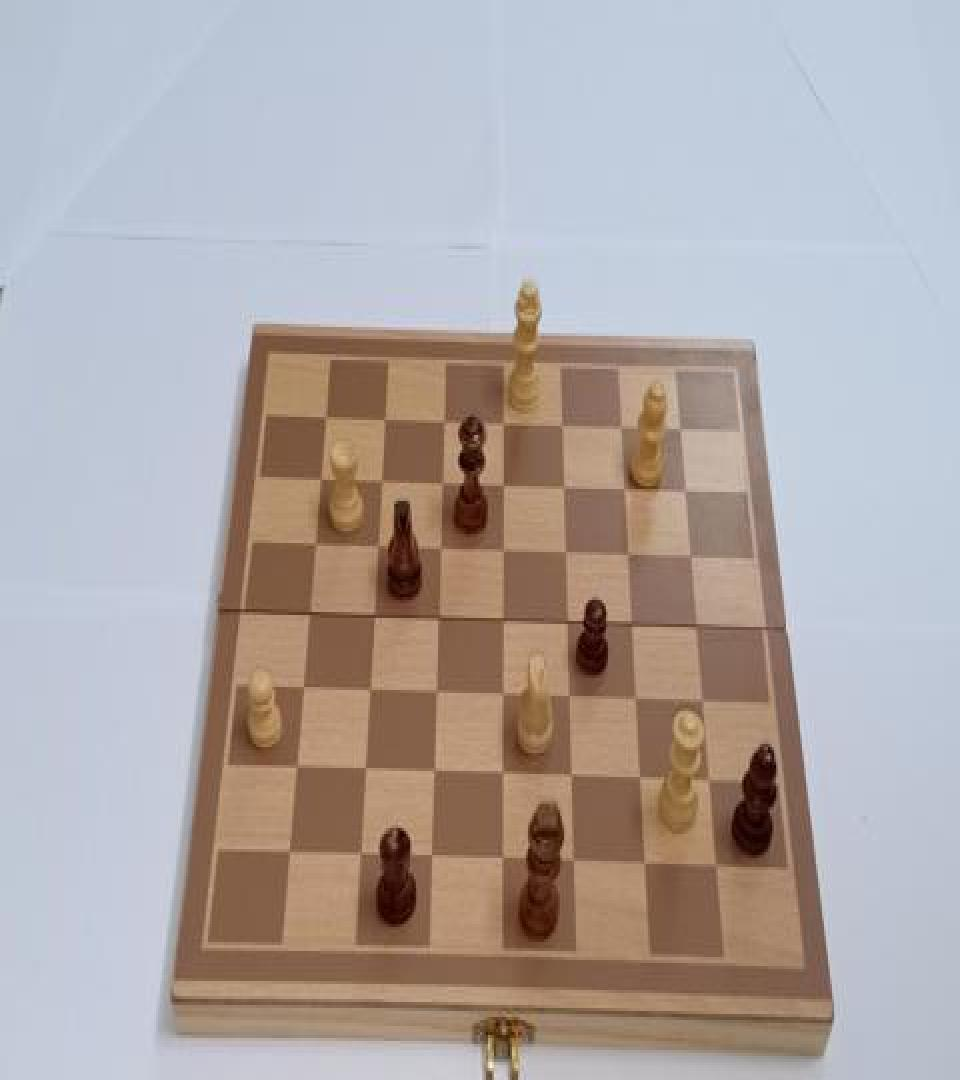xcorner: (310, 466, 328, 494), (354, 760, 372, 788), (436, 406, 454, 434), (616, 412, 634, 440), (316, 404, 334, 431), (304, 532, 322, 559), (298, 603, 316, 630), (292, 678, 310, 705), (277, 843, 295, 870), (376, 405, 394, 432), (372, 468, 390, 495), (368, 534, 386, 561), (364, 604, 382, 631), (349, 844, 367, 871), (434, 470, 452, 497), (431, 537, 449, 564), (426, 683, 444, 710), (424, 762, 442, 789), (496, 408, 514, 435), (495, 471, 513, 498), (495, 538, 513, 565), (494, 609, 512, 636), (494, 684, 512, 711), (493, 849, 511, 876), (556, 411, 574, 438), (557, 474, 575, 501), (558, 540, 576, 567), (560, 610, 578, 637), (561, 687, 579, 714), (563, 766, 581, 793), (565, 852, 583, 879), (629, 689, 647, 716), (633, 768, 651, 795), (676, 414, 694, 441), (680, 477, 698, 504), (685, 545, 703, 572), (691, 615, 709, 642), (696, 690, 714, 717), (702, 771, 720, 798), (709, 857, 727, 884), (285, 758, 303, 784), (359, 680, 377, 706), (429, 608, 447, 634), (421, 848, 439, 874), (493, 764, 511, 790), (619, 476, 637, 502), (622, 542, 640, 568), (625, 614, 643, 640), (637, 854, 655, 880)
